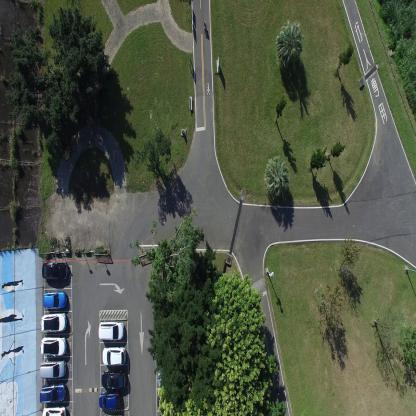car: (39, 335, 67, 358), (39, 381, 66, 404), (40, 312, 67, 334), (98, 320, 125, 341), (38, 358, 66, 378), (42, 290, 68, 310), (42, 261, 68, 281), (101, 369, 126, 389), (98, 390, 121, 410), (102, 346, 126, 365), (41, 404, 67, 415)
